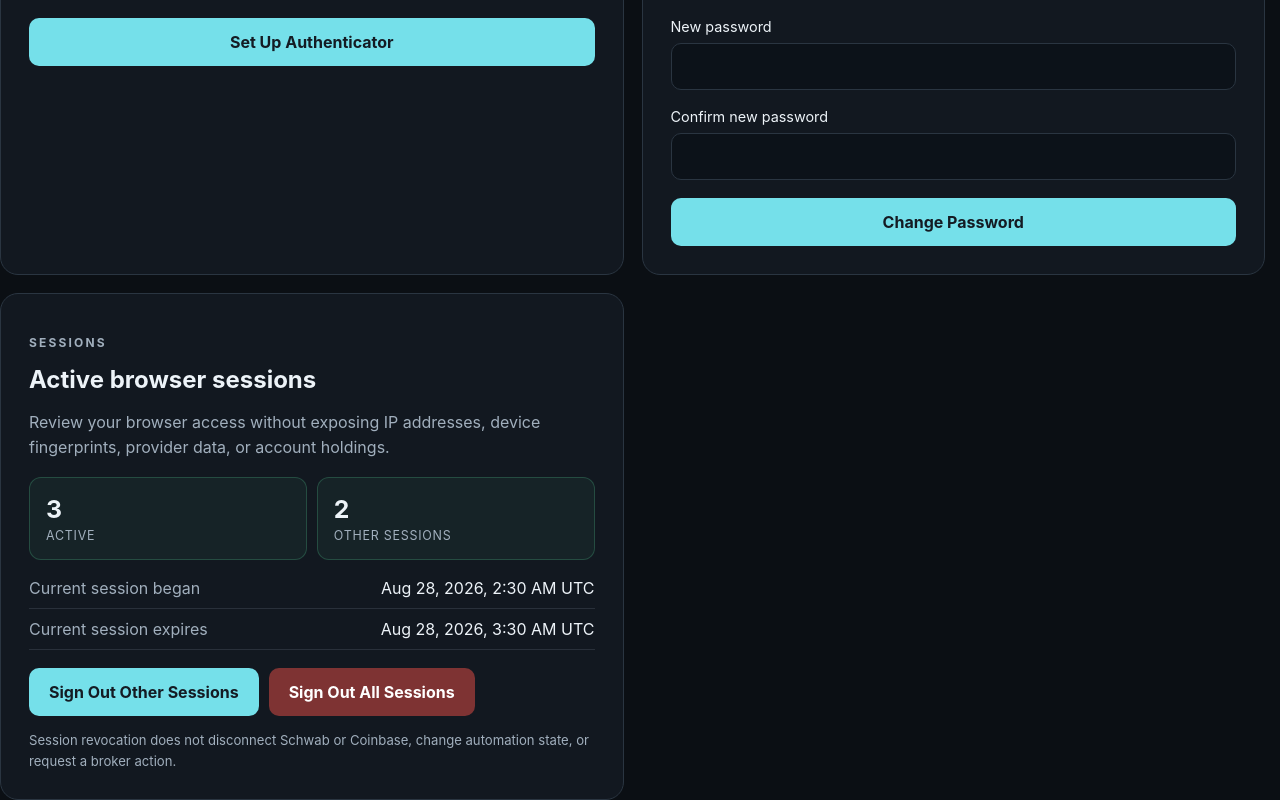
Scenario: SecurityControls › shows a metadata-free session inventory and revokes only other sessions
(page scrolled)
Expected: the text "3" is shown, [46, 494, 62, 524]
Expected: the text "2" is shown, [334, 494, 349, 524]
Click the button "Sign Out Other Sessions" at (144,692), box [29, 668, 259, 716]
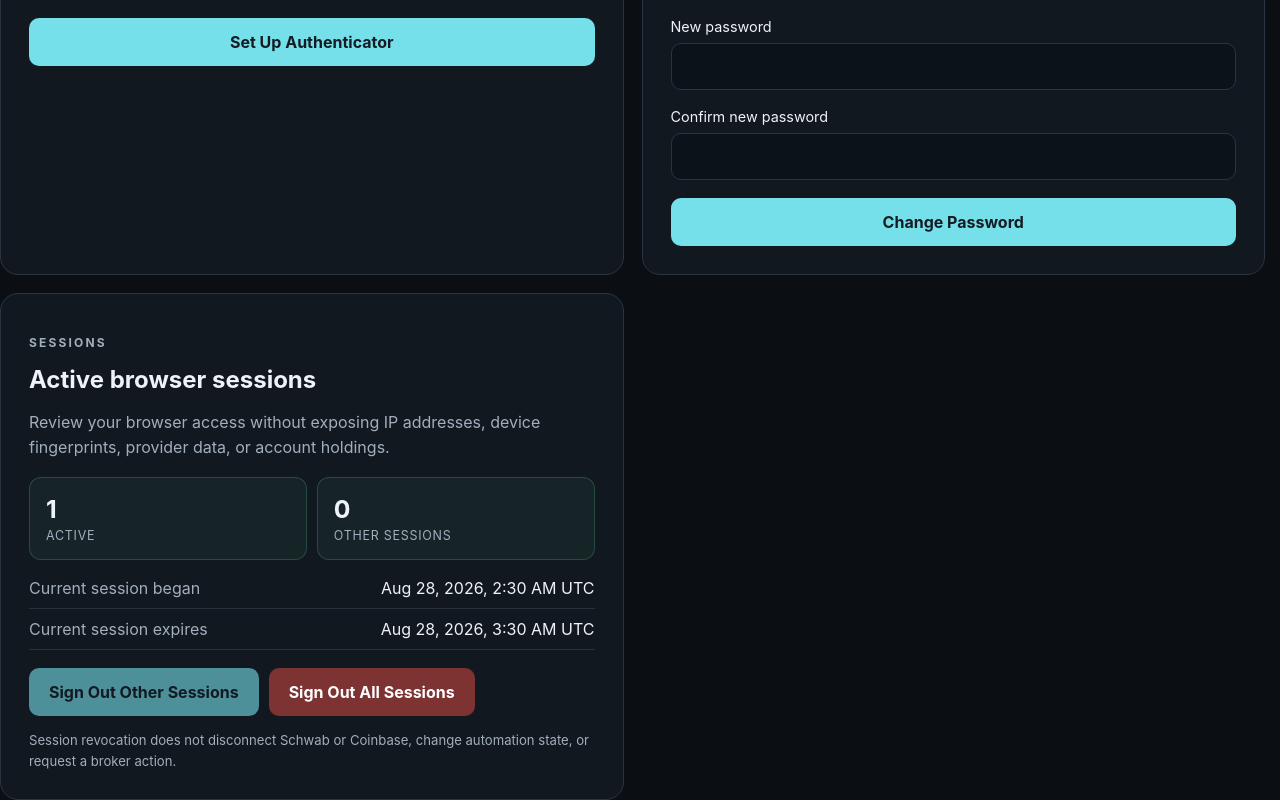
Result: the text "1" is shown at [46, 494, 57, 524]
Result: the button "Sign Out Other Sessions" is disabled at [29, 668, 259, 716]
